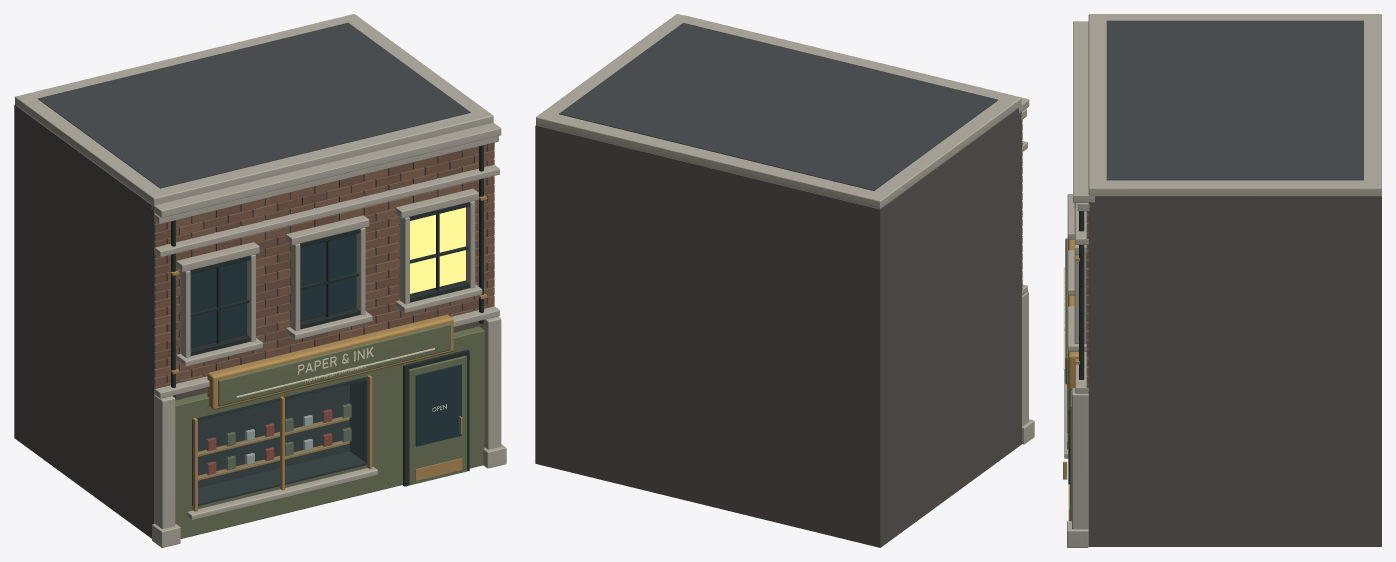
File: district-paper-ink.glb
3 views of the same model, side by side, from view 1: azimuth 30°, elevation 25°; view 2: azimuth 150°, elevation 25°; view 3: azimuth 270°, elevation 25° (orthographic). The views are drawn at different scales.
Visible parts, largest first — view 1: Existing envelope, District Roof membrane, District Warm limestone, District Charcoal painted metal, District Coffee enamel, District Shop window clear glazing, Roof cap, District Opaque dark glazing, District Brick tone 0, Sign enamel inset, District Brick tone 3, District Brick tone 4 (+7 smaller); view 2: Existing envelope, District Roof membrane, Roof cap, District Warm limestone; view 3: Existing envelope, District Roof membrane, Roof cap, District Warm limestone, District Charcoal painted metal, Sign brass frame, Sign enamel inset.
Part boxes in pixels (box(x1,y1,x2,y2)): Existing envelope: box(14, 104, 493, 538); District Roof membrane: box(37, 22, 470, 188); District Warm limestone: box(151, 122, 506, 547); District Charcoal painted metal: box(171, 145, 483, 506); District Coffee enamel: box(175, 326, 484, 538); District Shop window clear glazing: box(198, 379, 366, 506); Roof cap: box(15, 14, 493, 205); District Opaque dark glazing: box(190, 234, 461, 446); District Brick tone 0: box(154, 150, 494, 388); Sign enamel inset: box(218, 323, 450, 406); District Brick tone 3: box(154, 150, 494, 382); District Brick tone 4: box(166, 161, 494, 382); Existing envelope: box(535, 108, 1021, 547); District Roof membrane: box(559, 23, 997, 190); Roof cap: box(536, 14, 1021, 208); District Warm limestone: box(684, 15, 1034, 444); Existing envelope: box(1088, 195, 1381, 546); District Roof membrane: box(1106, 20, 1363, 180); Roof cap: box(1088, 14, 1381, 196); District Warm limestone: box(1064, 21, 1095, 547); District Charcoal painted metal: box(1079, 211, 1086, 379); Sign brass frame: box(1068, 239, 1078, 390); Sign enamel inset: box(1065, 238, 1067, 384).
Bounding box in the file's own units: 7.71 × 7.31 × 5.87.
